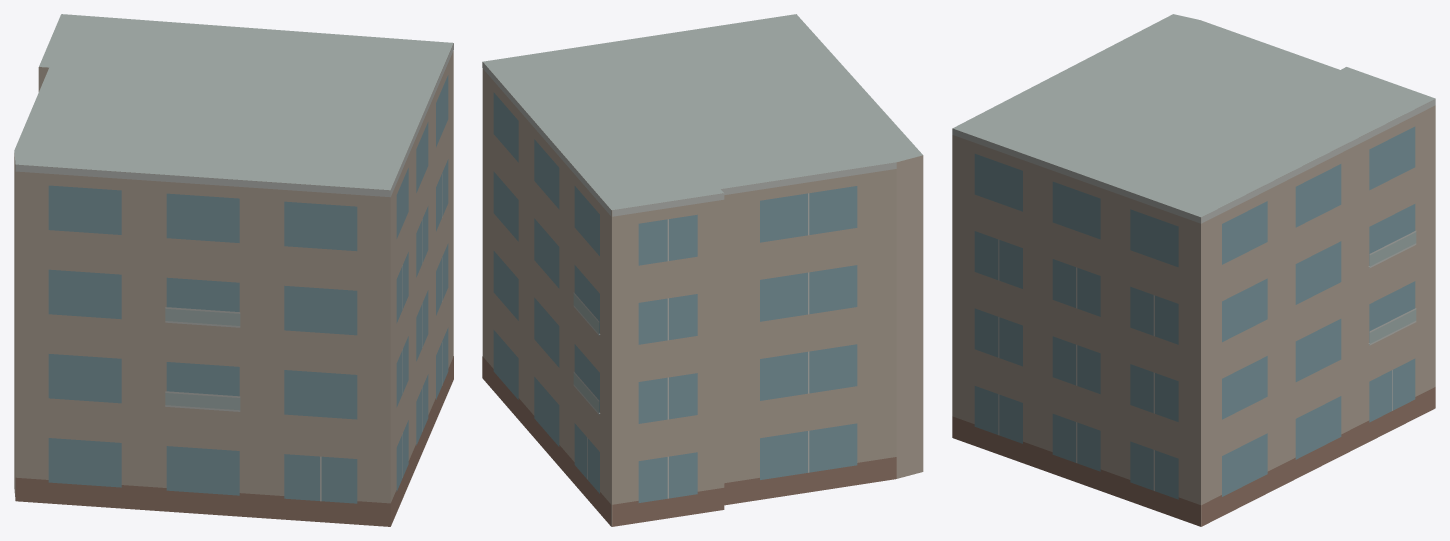
File: survey-upis-33025179.glb
The picture shows the model from 3 angles, left to right: view 1: azimuth 30°, elevation 25°; view 2: azimuth 150°, elevation 25°; view 3: azimuth 270°, elevation 25°; orthographic projection. The views are drawn at different scales.
Visible parts, largest first — view 1: survey-upis-33025179.tmp; view 2: survey-upis-33025179.tmp; view 3: survey-upis-33025179.tmp.
Boxes of the visible parts, left/top/right/bottom form: survey-upis-33025179.tmp: left=14, top=14, right=453, bottom=526; survey-upis-33025179.tmp: left=482, top=14, right=923, bottom=526; survey-upis-33025179.tmp: left=952, top=14, right=1435, bottom=526.
Size of the model in its own units: 16.64 by 11.8 by 16.7.
